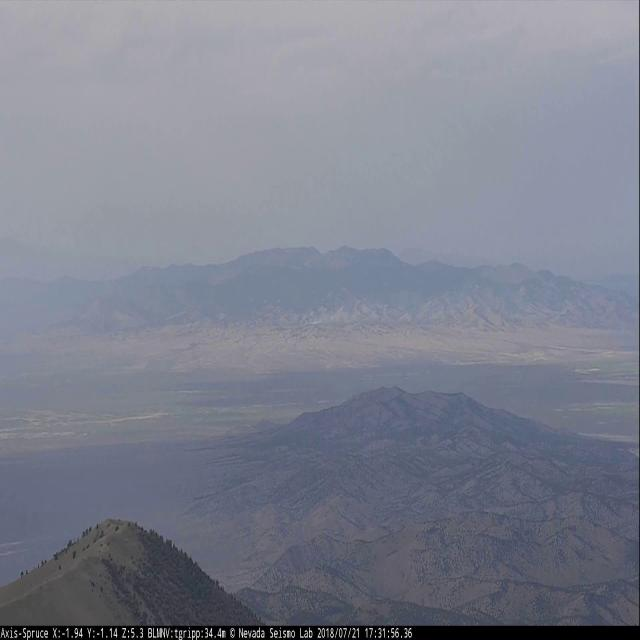smoke: (309, 294, 394, 328)
